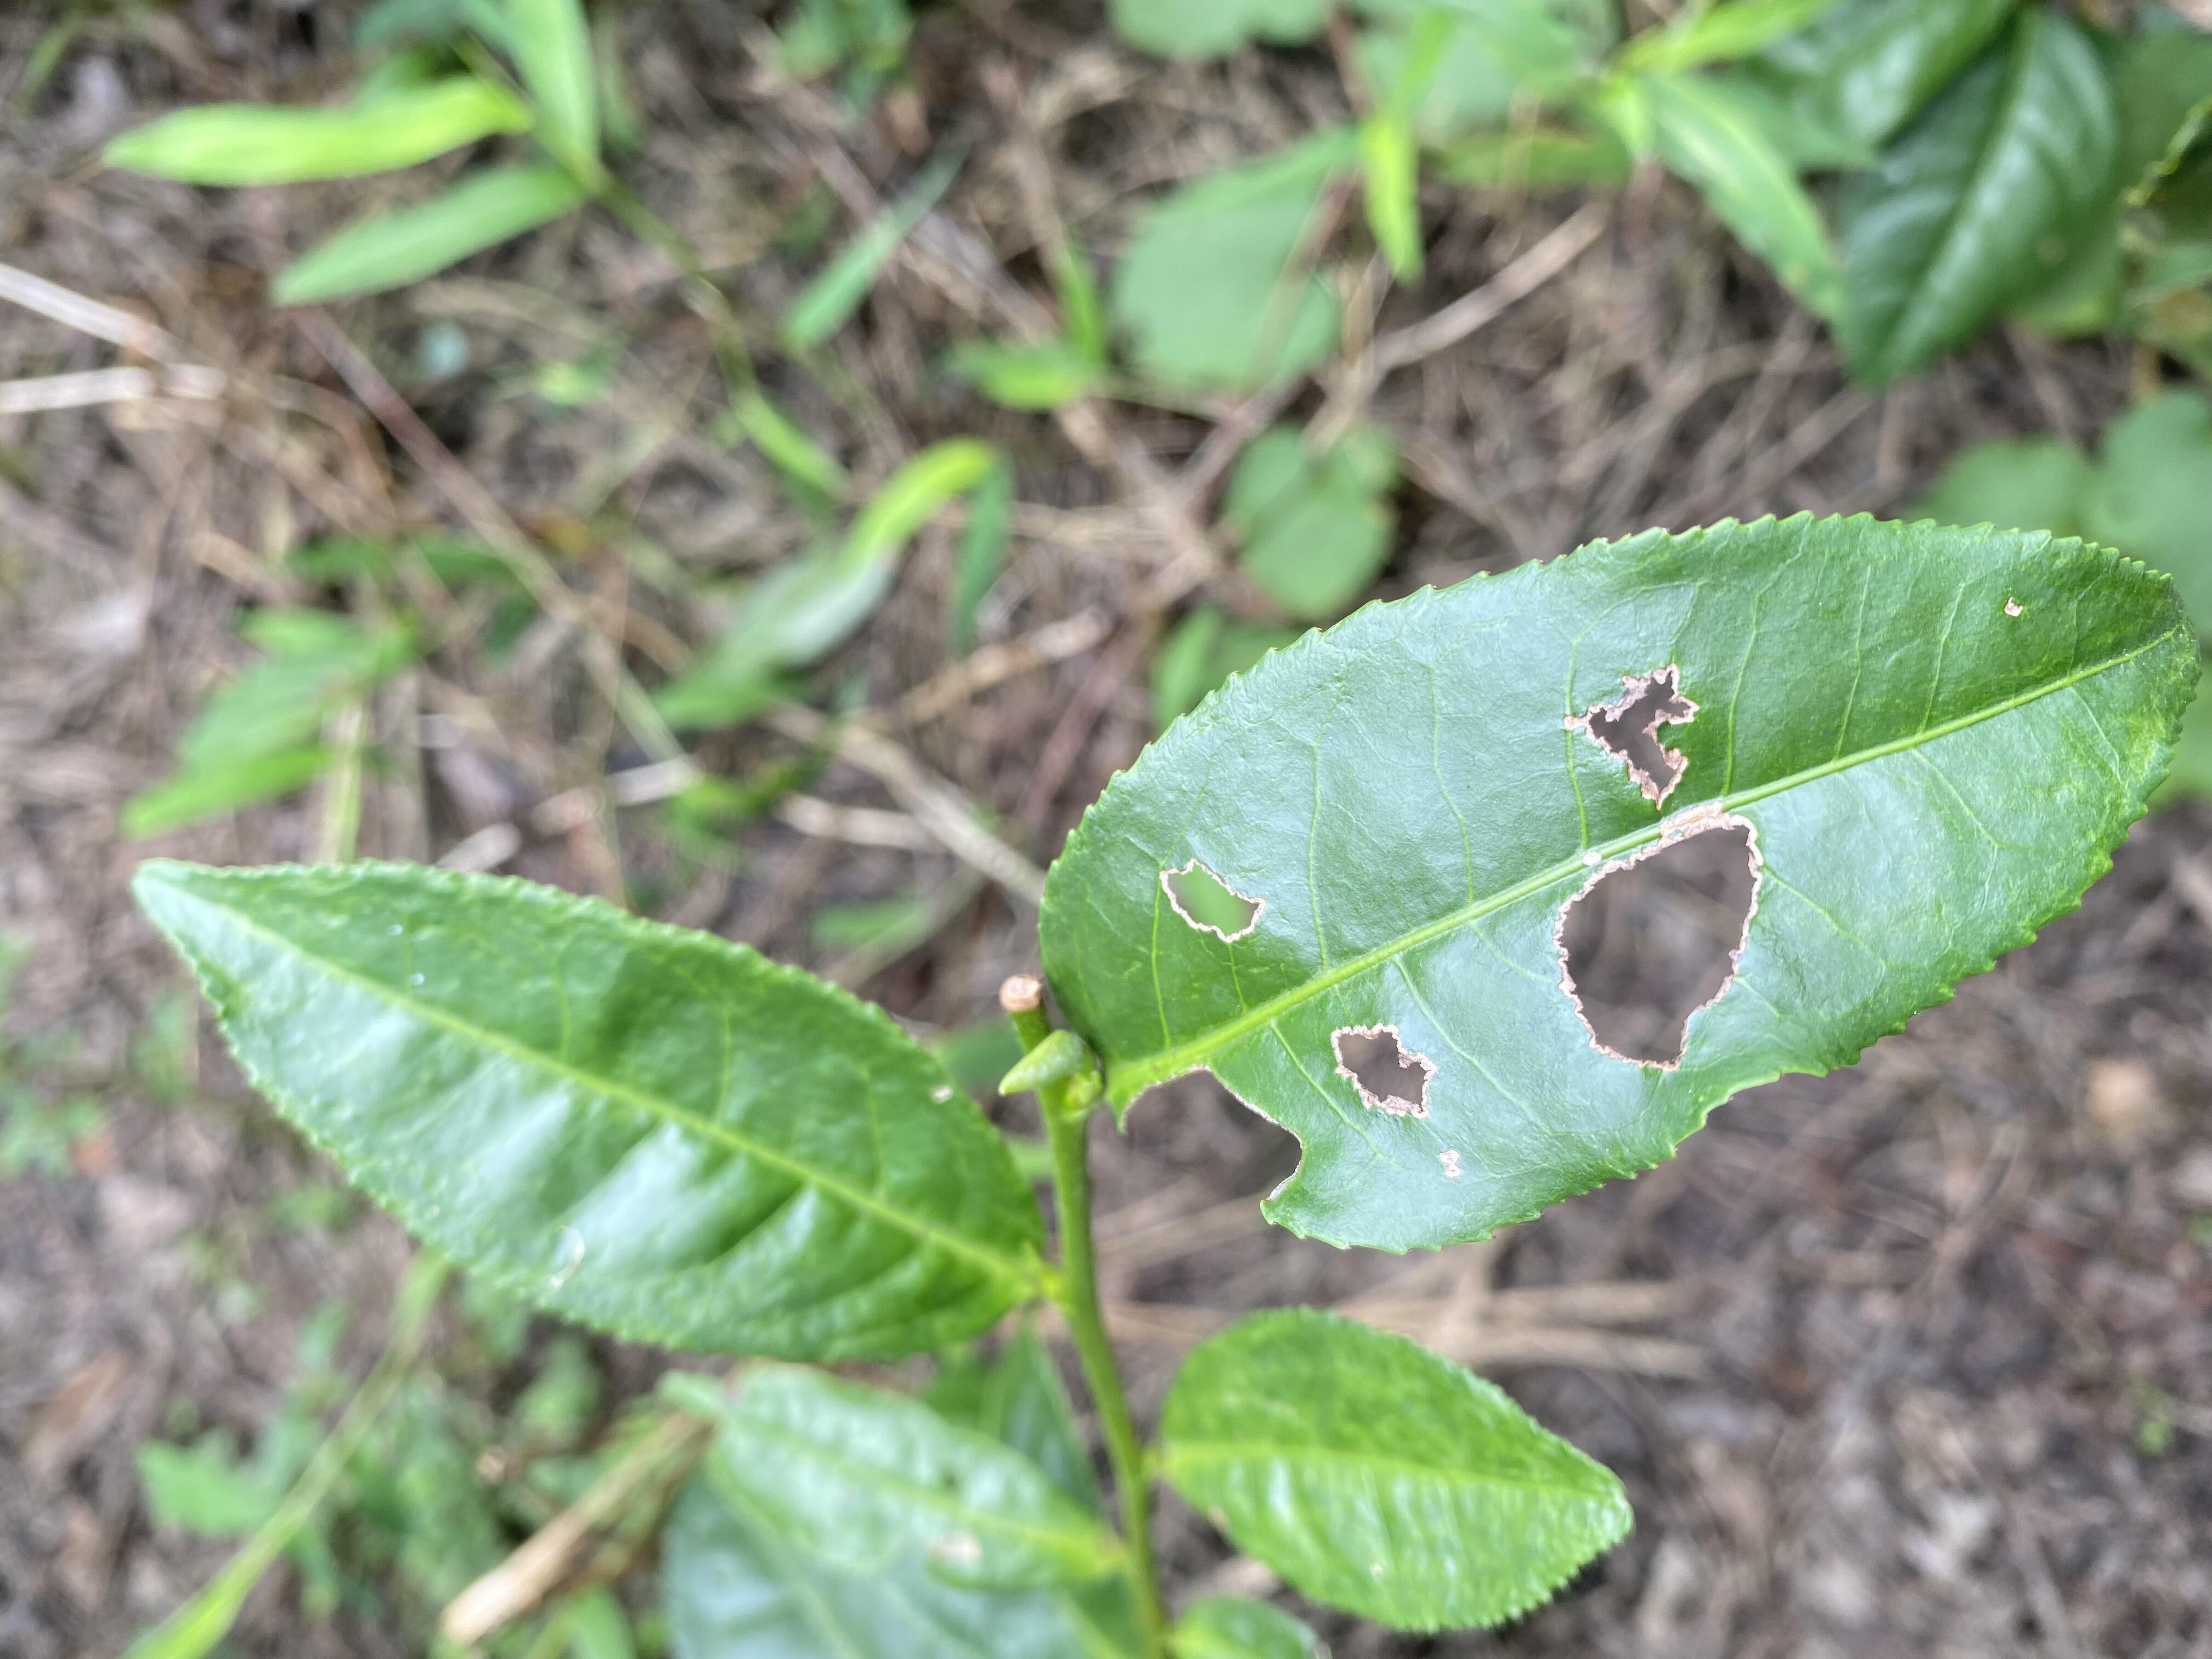chihuo_high: (1038, 509, 2202, 1256)
tanju_low: (131, 856, 1049, 1356)
